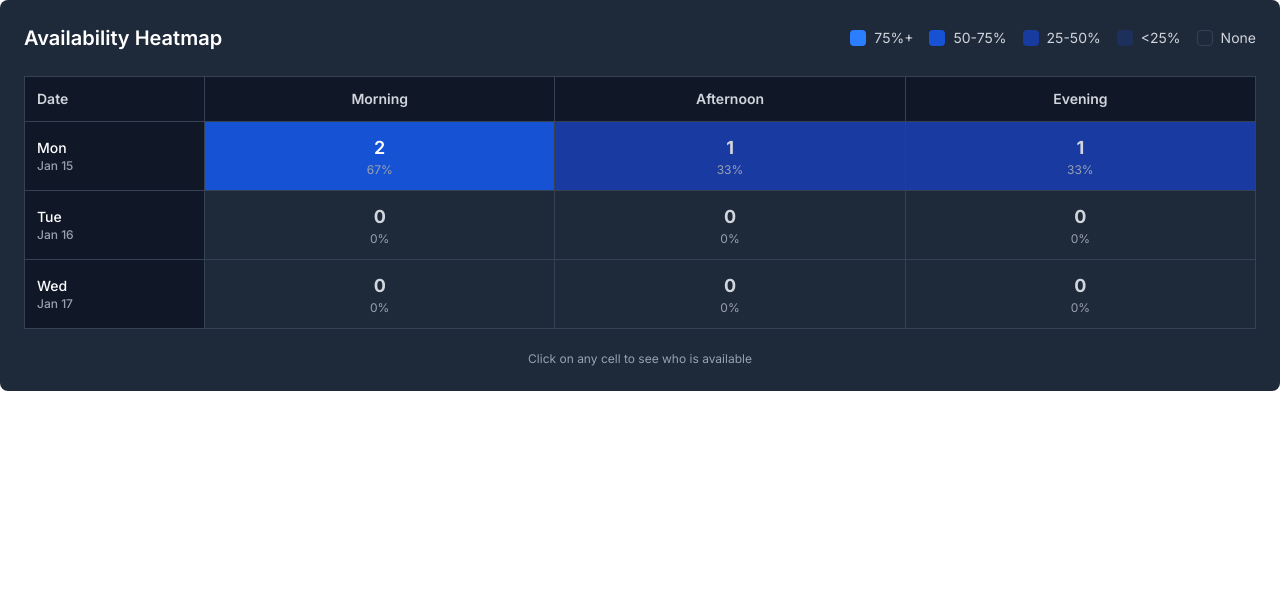
Test: AvailabilityVisualization › Cell interaction › should show participant breakdown when cell is clicked
This screenshot has width=1280, height=594.
Click the cell "2 67%". click: (380,156)
box: [205,122,555,190]
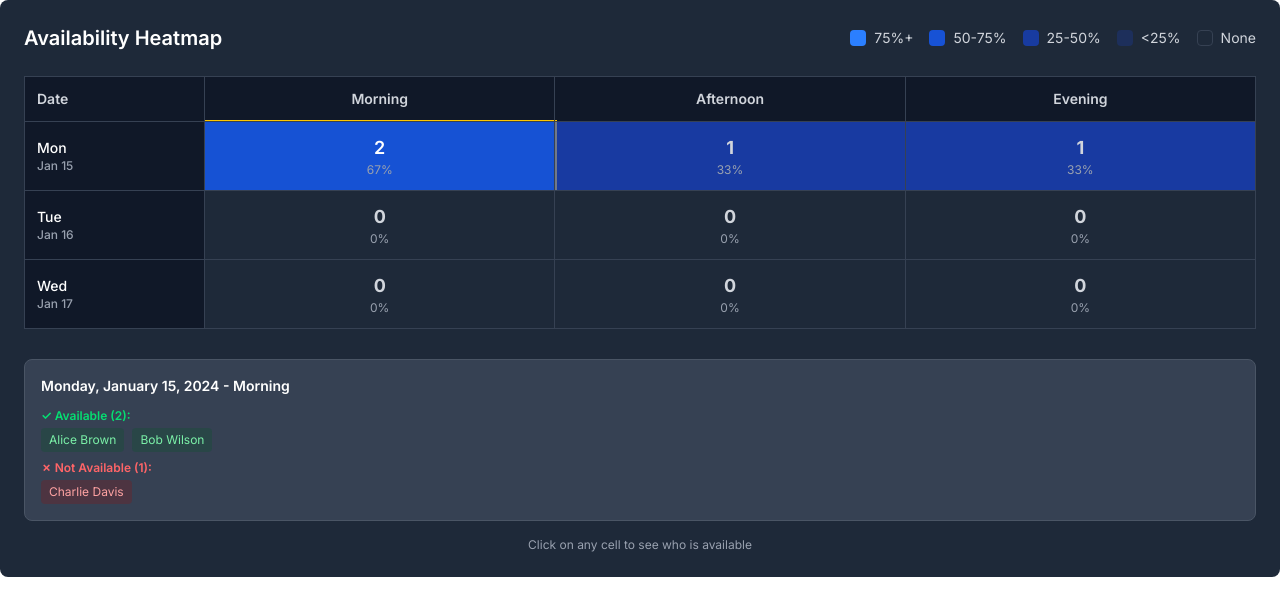
Check: the text "✓ Available (2):" is shown, box [41,408,131,423]
